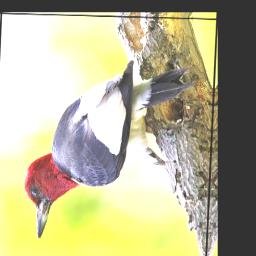Woodpecker: (23, 57, 195, 240)
